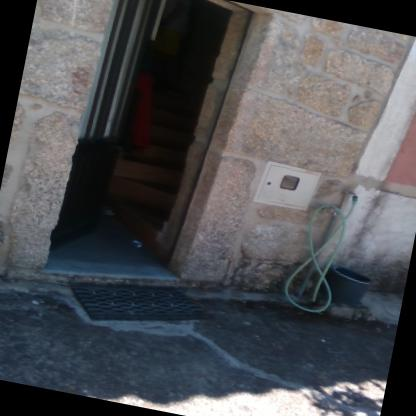semi: (36, 0, 274, 301)
